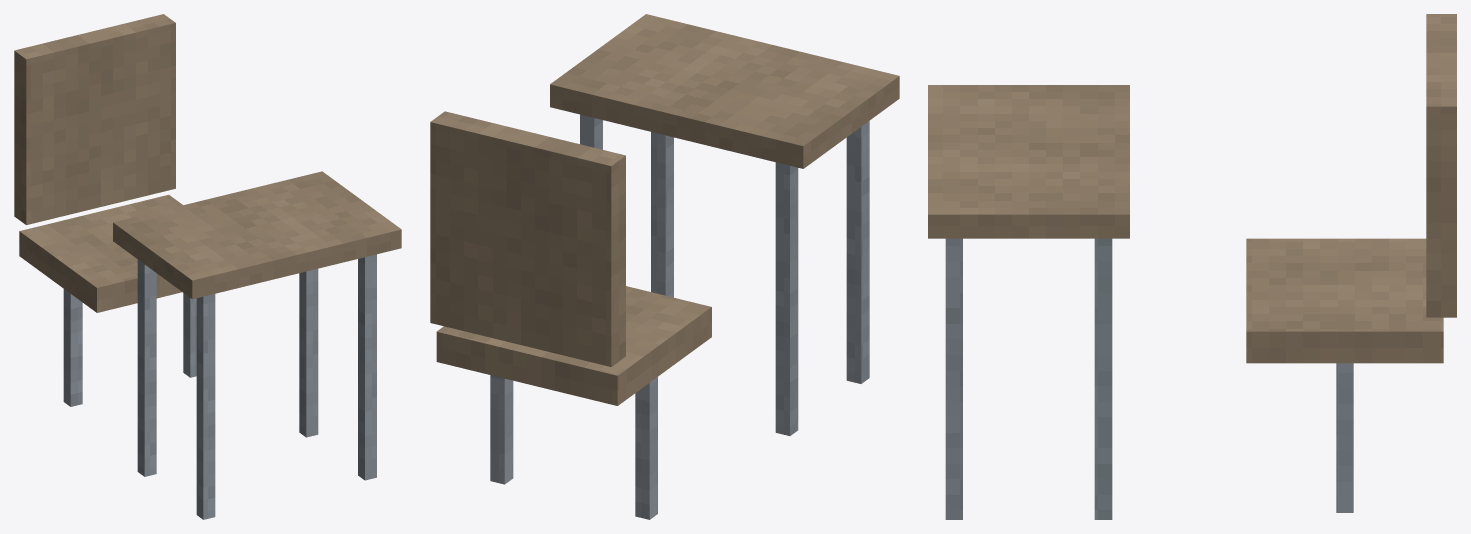
File: level_blockout_student_desk.glb
The picture shows the model from 3 angles, left to right: view 1: azimuth 30°, elevation 25°; view 2: azimuth 150°, elevation 25°; view 3: azimuth 270°, elevation 25°; orthographic projection. The views are drawn at different scales.
Visible parts, largest first — view 1: level_blockout_student_desk; view 2: level_blockout_student_desk; view 3: level_blockout_student_desk.
Part boxes in pixels (x1=…): level_blockout_student_desk: x1=14, y1=14, x2=401, y2=519; level_blockout_student_desk: x1=430, y1=14, x2=899, y2=519; level_blockout_student_desk: x1=928, y1=14, x2=1456, y2=519.
Size of the model in its own units: 0.7 by 1.03 by 1.21.
2 materials, 2 textured.
